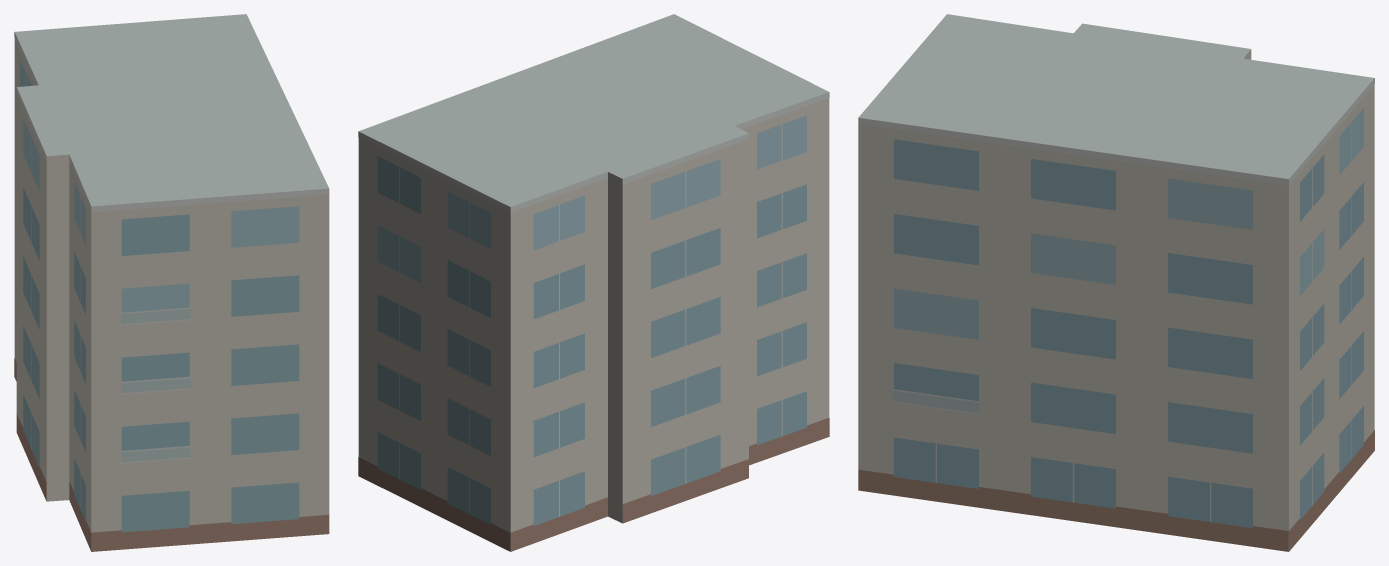
The model's file is survey-upis-32882609.glb.
3 renders of one model, left to right at view 1: azimuth 30°, elevation 25°; view 2: azimuth 150°, elevation 25°; view 3: azimuth 270°, elevation 25°, orthographic. The views are drawn at different scales.
Parts seen in each view (by area): view 1: survey-upis-32882609.tmp; view 2: survey-upis-32882609.tmp; view 3: survey-upis-32882609.tmp.
Part boxes in pixels (bbox=[...]): survey-upis-32882609.tmp: bbox=[14, 14, 329, 551]; survey-upis-32882609.tmp: bbox=[358, 14, 829, 551]; survey-upis-32882609.tmp: bbox=[858, 14, 1374, 551].
Bounding box in the file's own units: 13.5 × 14.2 × 17.84.
